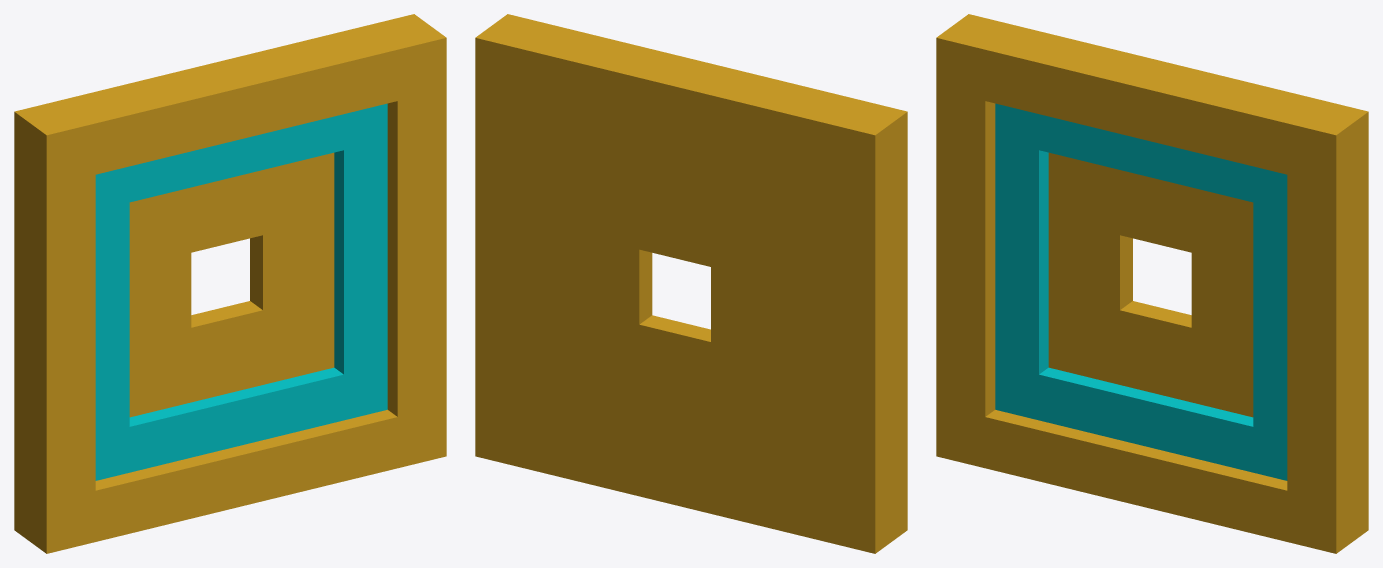
The model's file is Prop_Jungle_Temple_Ornament_Icon_Plaque_Small_Gold_Gem_05.FBX.
3 renders of one model, left to right at view 1: azimuth 30°, elevation 25°; view 2: azimuth 150°, elevation 25°; view 3: azimuth 330°, elevation 25°, orthographic.
Parts seen in each view (by area): view 1: Prop_Jungle_Temple_Ornament_Icon_Plaque_Small_Gold_Gem_05; view 2: Prop_Jungle_Temple_Ornament_Icon_Plaque_Small_Gold_Gem_05; view 3: Prop_Jungle_Temple_Ornament_Icon_Plaque_Small_Gold_Gem_05.
Boxes of the visible parts, x1,y1,x2,y2 form: Prop_Jungle_Temple_Ornament_Icon_Plaque_Small_Gold_Gem_05: (14,14,446,553); Prop_Jungle_Temple_Ornament_Icon_Plaque_Small_Gold_Gem_05: (475,14,907,553); Prop_Jungle_Temple_Ornament_Icon_Plaque_Small_Gold_Gem_05: (936,14,1368,553).
Bounding box in the file's own units: 316 × 316 × 44.43.
